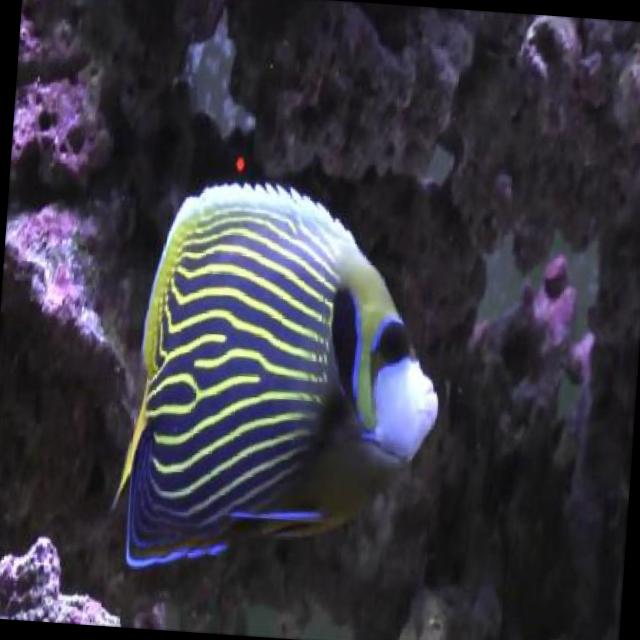AngelFish: (111, 176, 453, 584)
